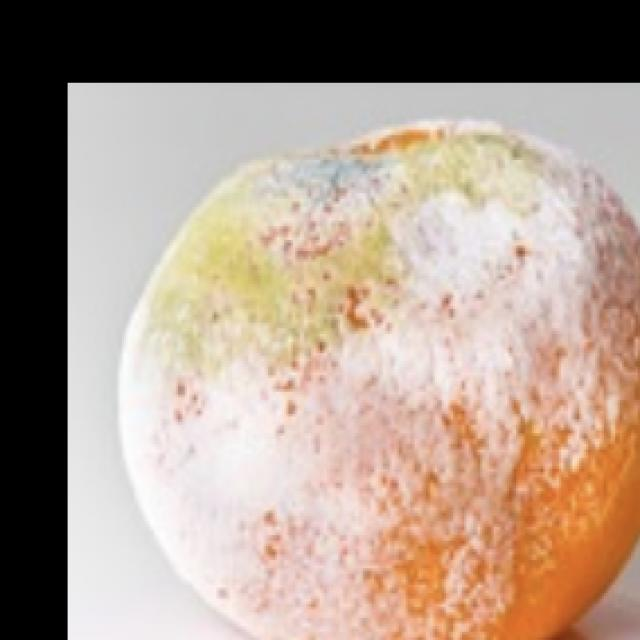sangat_busuk: (124, 128, 638, 637)
